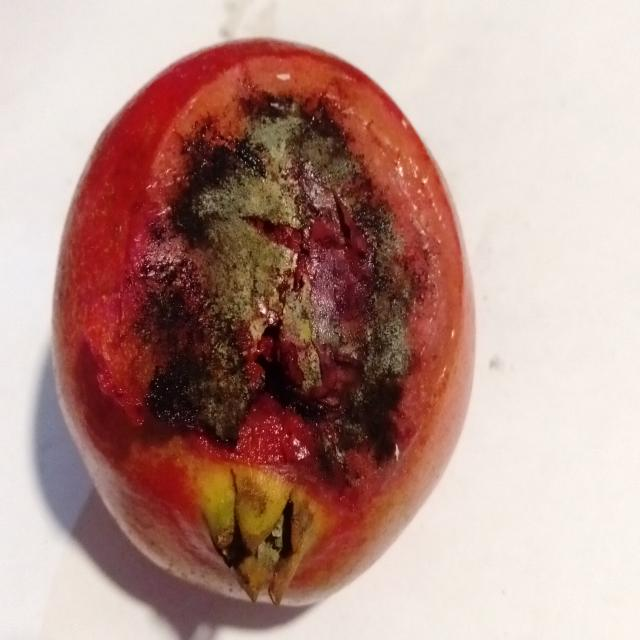Rotten: (52, 36, 476, 609)
